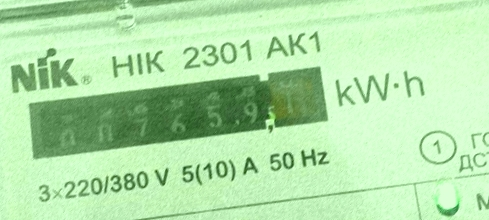0: (57, 120, 79, 148), (95, 115, 117, 143)
1: (281, 81, 299, 115)
5: (202, 97, 228, 127)
6: (167, 105, 190, 132)
7: (131, 111, 154, 138)
9: (240, 94, 262, 123)
screen: (15, 43, 343, 178)
